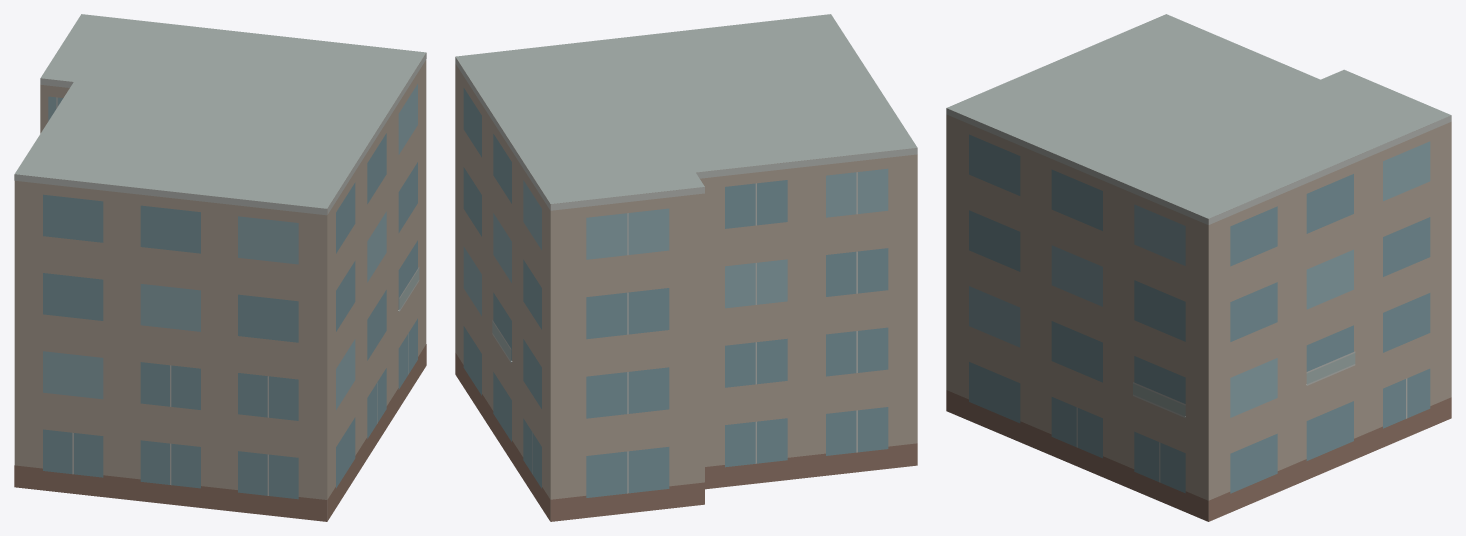
Rendered from survey-upis-32691484.glb.
The picture shows the model from 3 angles, left to right: view 1: azimuth 30°, elevation 25°; view 2: azimuth 150°, elevation 25°; view 3: azimuth 270°, elevation 25°; orthographic projection. The views are drawn at different scales.
Visible parts, largest first — view 1: survey-upis-32691484.tmp; view 2: survey-upis-32691484.tmp; view 3: survey-upis-32691484.tmp.
Part boxes in pixels (x1=…): survey-upis-32691484.tmp: x1=14, y1=14, x2=426, y2=521; survey-upis-32691484.tmp: x1=455, y1=14, x2=917, y2=521; survey-upis-32691484.tmp: x1=946, y1=14, x2=1451, y2=521.
Bounding box in the file's own units: 16.97 × 11.7 × 17.69.
